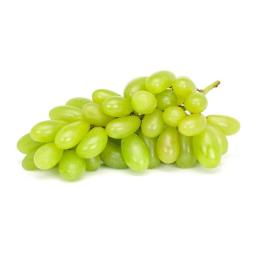kiwi: (7, 67, 236, 191)
